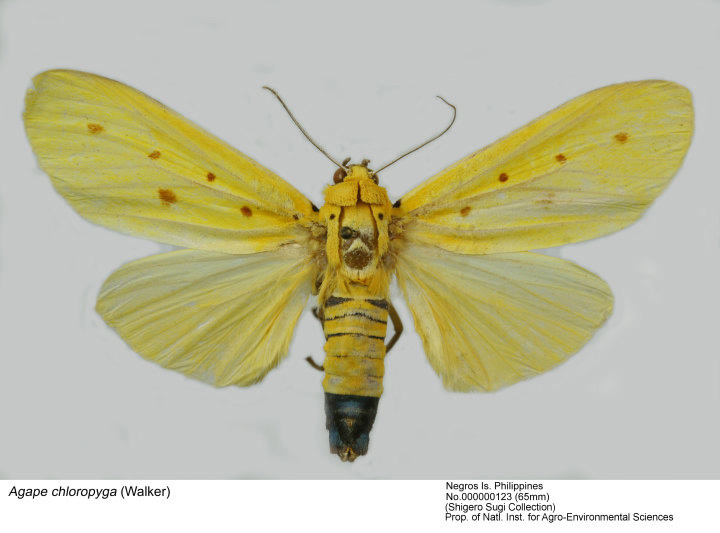Agape chloropyga: (20, 50, 697, 468)
moth: (22, 52, 699, 470)
